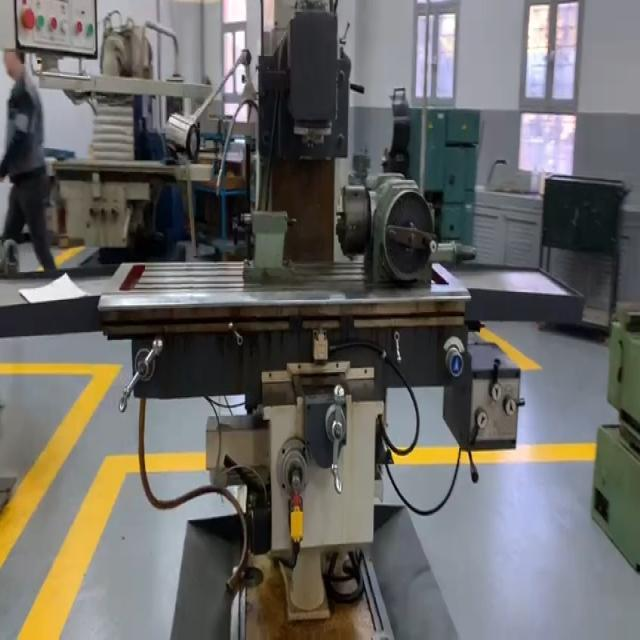tour parallele: (9, 0, 582, 640)
